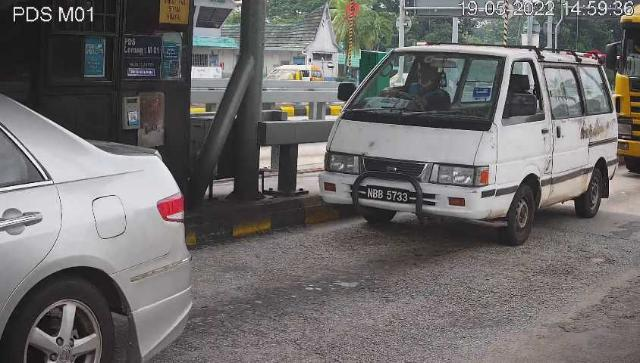License_Plate: (366, 186, 413, 209)
van: (320, 45, 620, 247)
